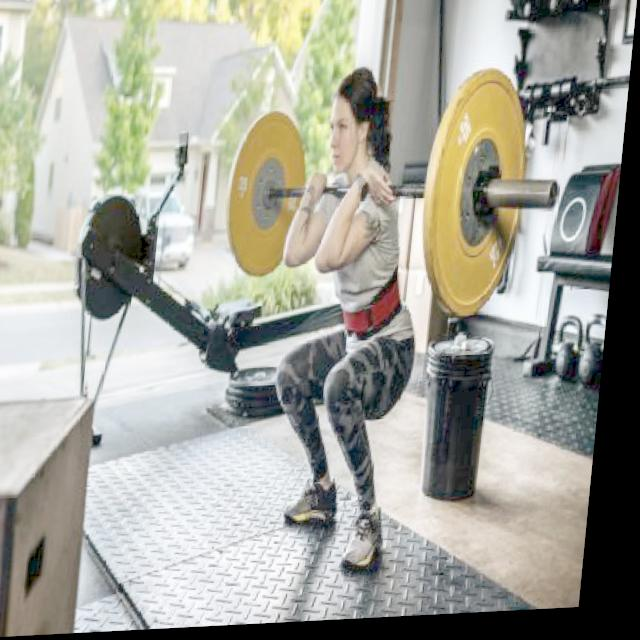barbell: (423, 65, 586, 327)
